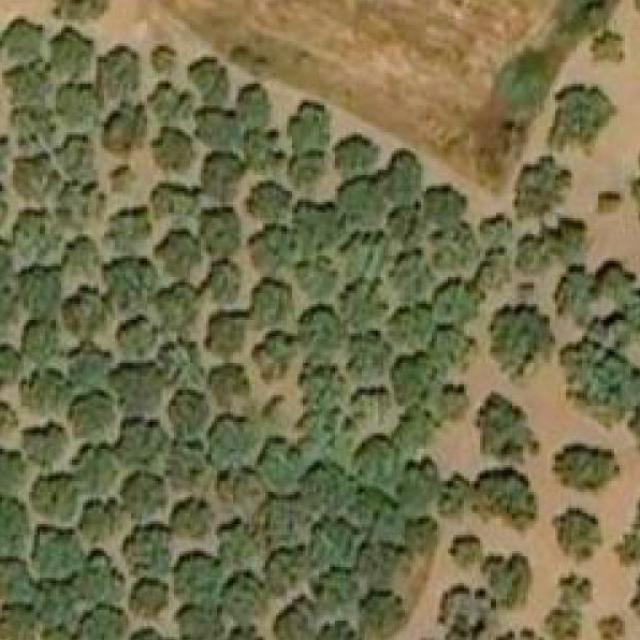Tree: (555, 254, 640, 338), (564, 344, 640, 418), (487, 301, 552, 374), (547, 84, 614, 151), (550, 442, 623, 501), (514, 216, 584, 273), (482, 398, 536, 466), (512, 156, 571, 218), (475, 473, 539, 524), (552, 506, 603, 565), (482, 551, 534, 604), (353, 540, 405, 592), (439, 588, 491, 640), (255, 495, 308, 543), (10, 210, 61, 259), (203, 150, 249, 202), (358, 588, 404, 640), (115, 367, 168, 412), (246, 221, 294, 270), (300, 309, 348, 358), (68, 385, 112, 438), (95, 50, 144, 96), (98, 108, 144, 157), (124, 527, 170, 576), (34, 583, 83, 629), (396, 250, 439, 302), (434, 286, 487, 328), (210, 417, 256, 465), (77, 438, 118, 490), (391, 356, 437, 402), (66, 286, 110, 334), (311, 570, 354, 619), (255, 277, 298, 325), (303, 406, 346, 454), (300, 357, 342, 406), (24, 363, 66, 411), (51, 30, 94, 76), (305, 468, 351, 511), (265, 551, 308, 597), (176, 554, 219, 600), (298, 253, 340, 300), (342, 184, 383, 232), (332, 132, 380, 173), (55, 84, 101, 126), (400, 465, 442, 511), (170, 388, 212, 433), (160, 282, 201, 328), (358, 438, 399, 484), (18, 157, 59, 203), (115, 256, 156, 302), (384, 153, 424, 200), (267, 441, 305, 490), (348, 234, 391, 277), (391, 304, 434, 347), (34, 530, 78, 572), (24, 318, 64, 364), (298, 205, 340, 248), (21, 270, 64, 312), (225, 576, 268, 618), (272, 599, 316, 640), (354, 492, 399, 532), (244, 186, 295, 221), (68, 342, 110, 384), (289, 103, 330, 146), (120, 420, 161, 463), (340, 282, 386, 320), (160, 229, 198, 275), (389, 200, 426, 246), (260, 331, 297, 377), (58, 186, 104, 223), (222, 470, 263, 511), (36, 476, 78, 516), (208, 312, 246, 356), (80, 604, 126, 640), (176, 501, 214, 544), (106, 213, 150, 250), (198, 108, 240, 146), (58, 138, 96, 180), (15, 110, 53, 152), (117, 316, 155, 358), (85, 556, 122, 599), (192, 59, 230, 100), (208, 263, 246, 304), (61, 234, 99, 275), (316, 518, 353, 560), (180, 604, 223, 640), (436, 328, 471, 372), (0, 495, 27, 552), (243, 130, 284, 167), (155, 129, 192, 170), (214, 363, 251, 404), (428, 186, 464, 228), (133, 574, 169, 616), (200, 212, 235, 255), (348, 388, 391, 423), (10, 66, 50, 103), (162, 338, 198, 379), (85, 499, 120, 540), (8, 19, 45, 57), (400, 411, 437, 449), (24, 431, 64, 466), (354, 334, 386, 377), (224, 524, 256, 567), (152, 84, 194, 116), (1, 604, 38, 640), (590, 28, 627, 63), (158, 188, 201, 218), (131, 474, 161, 516), (174, 444, 204, 486), (407, 519, 442, 554), (240, 87, 272, 125), (442, 479, 470, 522), (550, 610, 590, 640), (0, 454, 29, 495), (0, 560, 27, 602), (298, 154, 330, 189), (625, 145, 640, 218), (47, 0, 104, 17), (437, 390, 467, 420), (0, 345, 19, 391), (453, 535, 480, 567), (628, 392, 640, 462), (0, 296, 19, 339), (153, 46, 180, 76), (595, 615, 625, 640), (0, 243, 16, 289), (560, 576, 588, 602), (482, 216, 512, 240), (109, 166, 133, 196), (224, 623, 266, 640), (0, 408, 19, 438)
